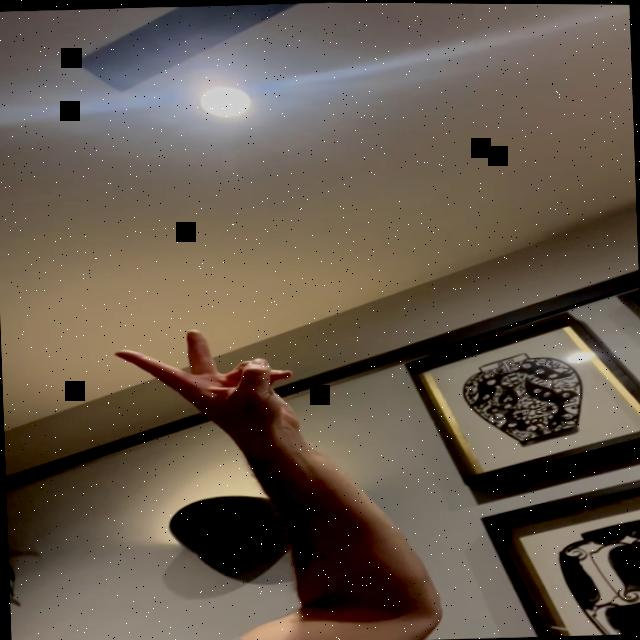Scissors: (112, 326, 302, 440)
